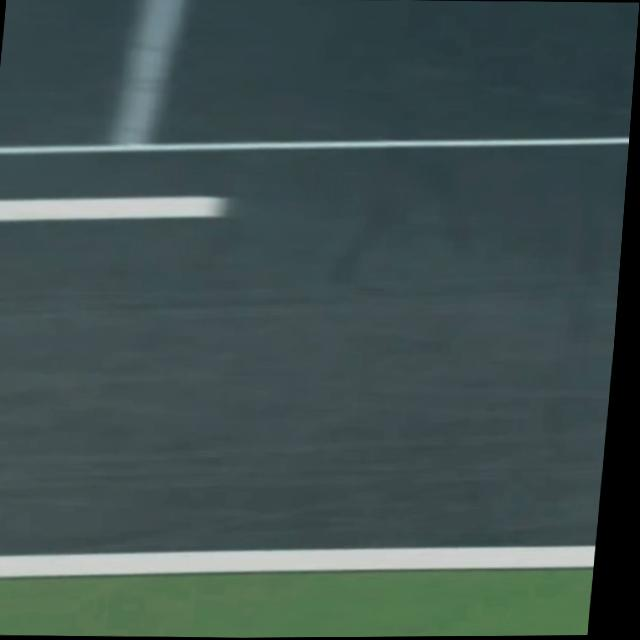center: (0, 195, 229, 219)
right: (0, 544, 595, 575)
